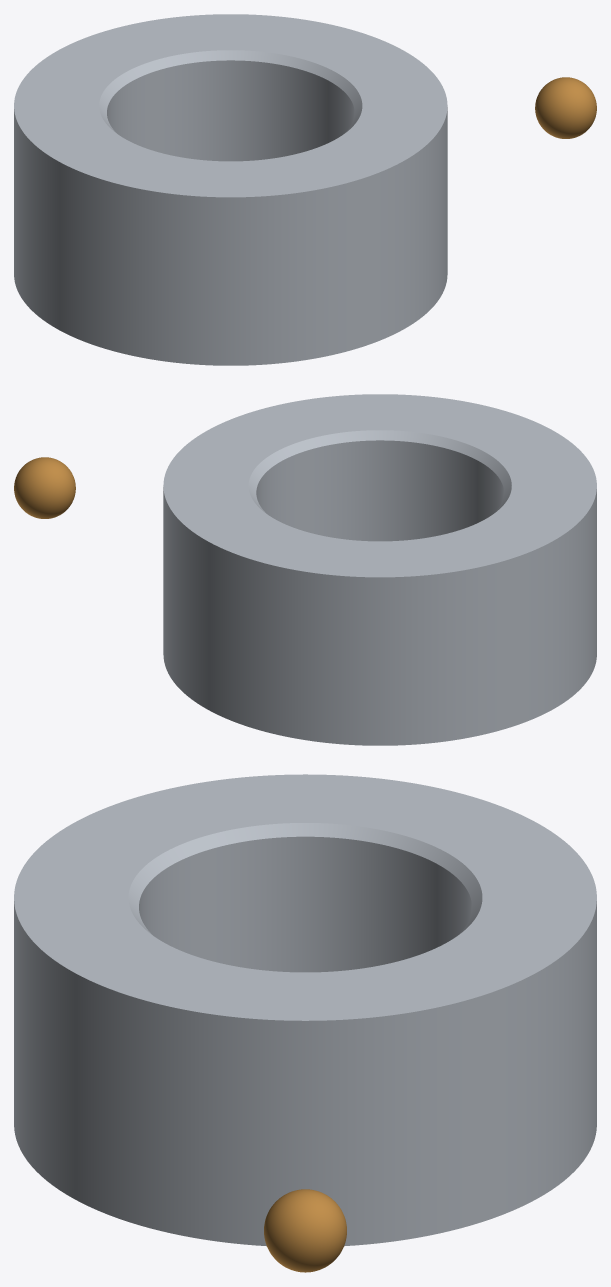
Rendered from large-after.glb.
The picture shows the model from 3 angles, top to bottom: view 1: azimuth 30°, elevation 25°; view 2: azimuth 150°, elevation 25°; view 3: azimuth 270°, elevation 25°; orthographic projection. The views are drawn at different scales.
Visible parts, largest first — view 1: bushing, preserved; view 2: bushing, preserved; view 3: bushing, preserved.
Boxes of the visible parts, box(x1,y1,x2,y2) form: bushing: box(14, 14, 447, 365); preserved: box(535, 77, 596, 138); bushing: box(163, 394, 596, 745); preserved: box(14, 457, 75, 518); bushing: box(14, 774, 596, 1246); preserved: box(264, 1189, 346, 1272).
Bounding box in the file's own units: 0.082 × 0.024 × 0.056.
